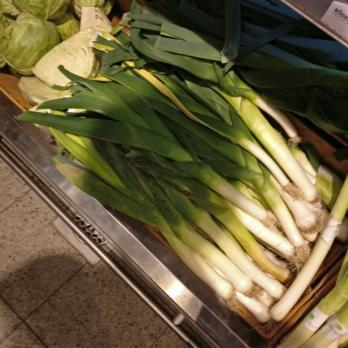Leek Leaves: (85, 16, 246, 236), (182, 59, 307, 309)
